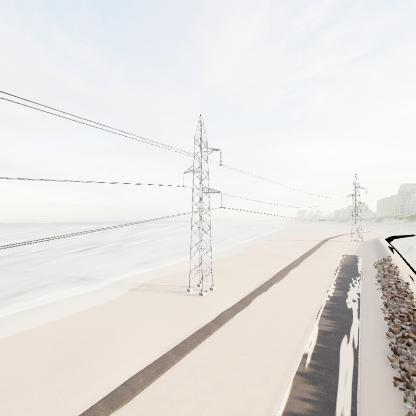tower: (177, 114, 226, 302)
